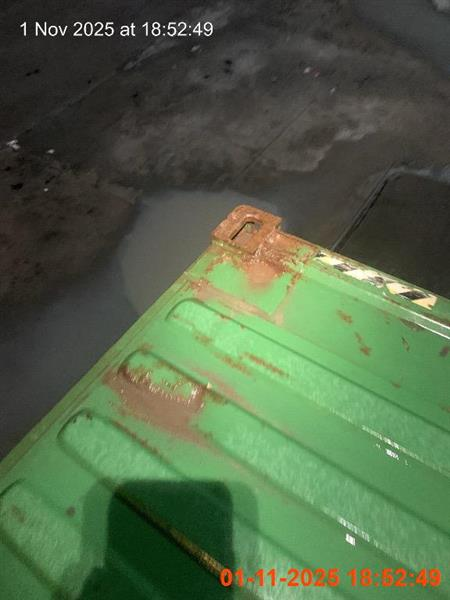hole: (0, 196, 447, 599)
